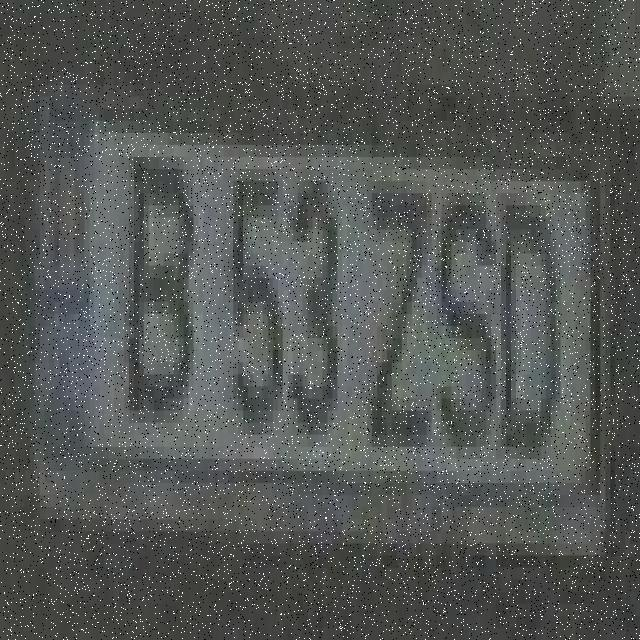LicensePlate: (29, 71, 623, 582)
